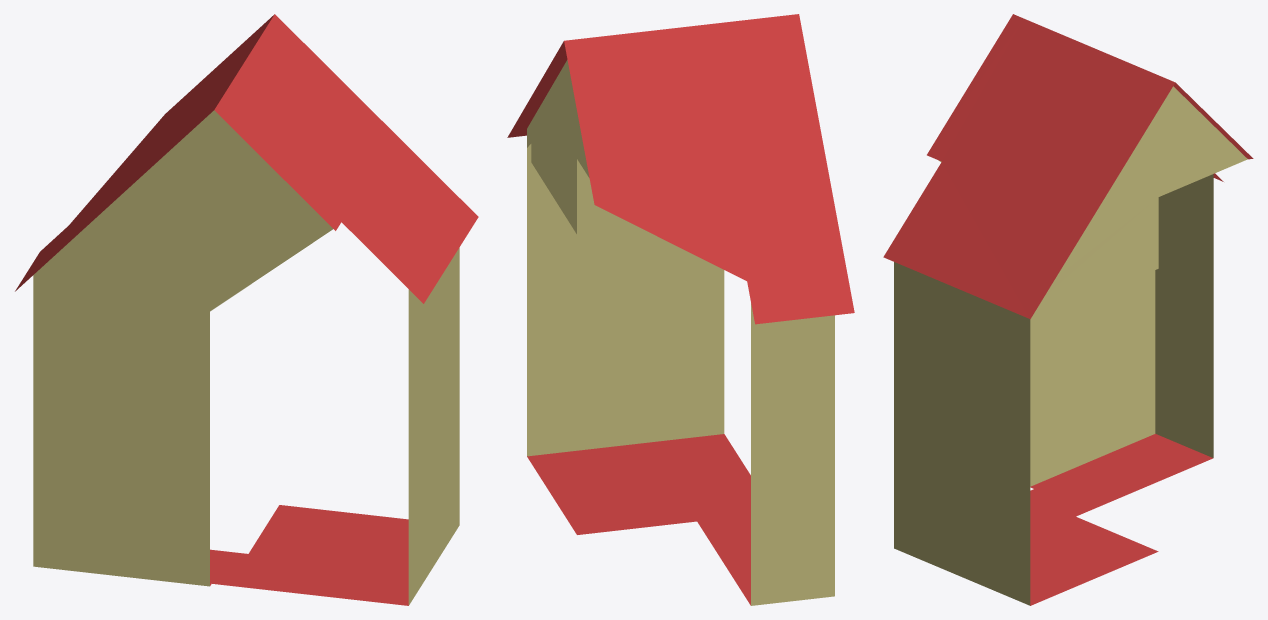
3 renders of one model, left to right at view 1: azimuth 30°, elevation 25°; view 2: azimuth 150°, elevation 25°; view 3: azimuth 270°, elevation 25°, orthographic. The views are drawn at different scales.
Size of the model in its own units: 14.93 by 12.28 by 17.23.
